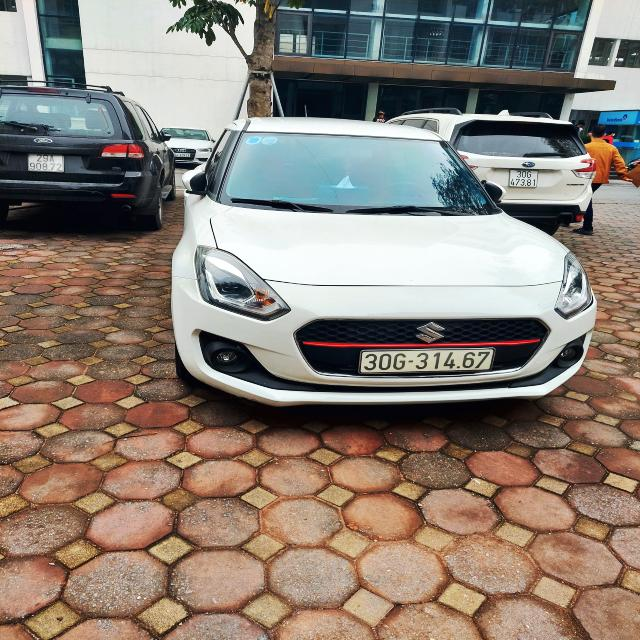license_plate: (361, 349, 495, 374), (29, 154, 64, 173), (510, 171, 538, 188)
